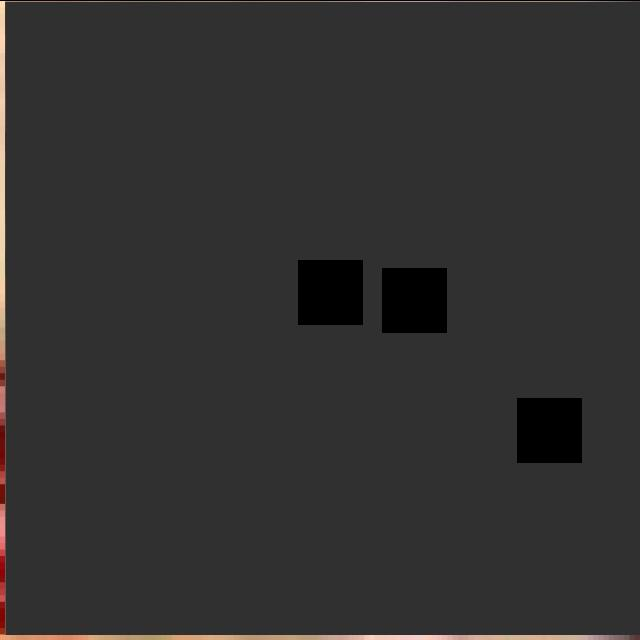fire: (5, 0, 640, 634)
